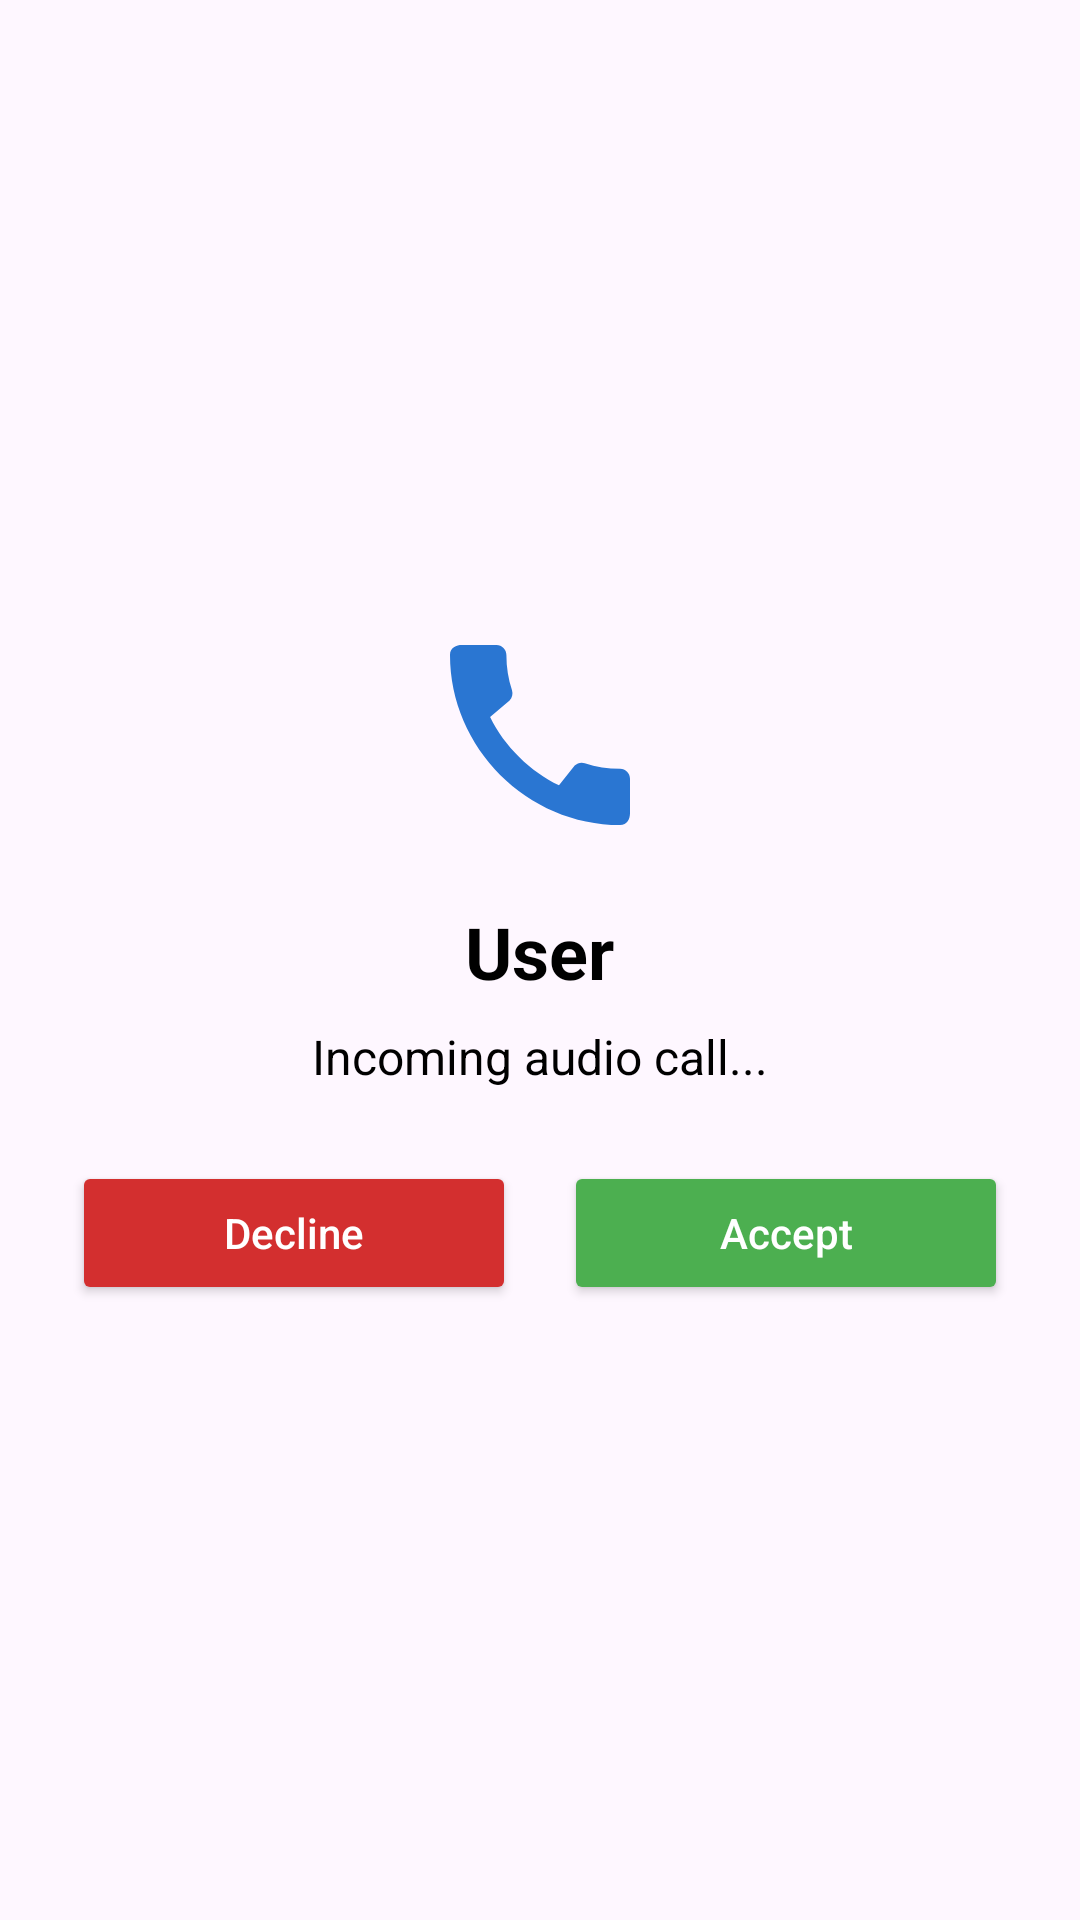

Point at icon controls on the screen. Image size 1080*1920, points as point (x, y).
call audio: point (540, 735)
